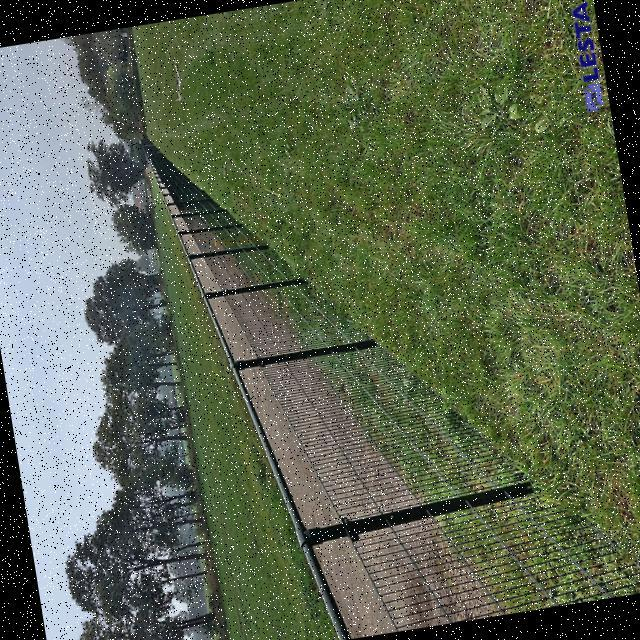fence line: (250, 306, 482, 541), (320, 484, 606, 626), (178, 197, 318, 374), (129, 133, 206, 230)
